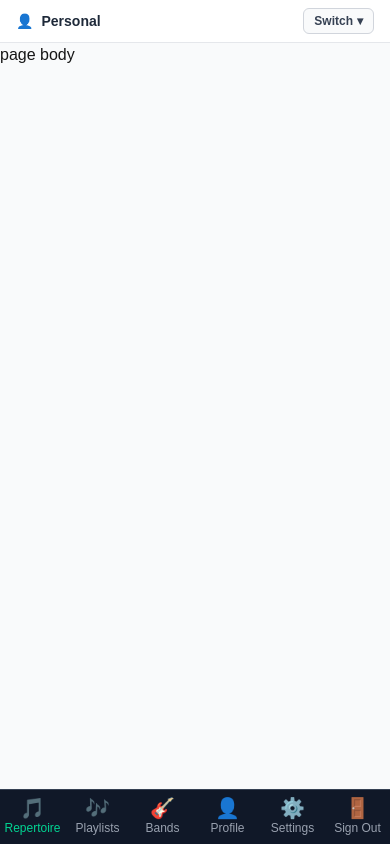
Scenario: AppLayout mobile context switch (RH-181) › opens the sheet from the personal bar and switches to a band
Click the button with test id "mobile-context-trigger".
click(339, 21)  # box top-left (303, 8), bottom-right (374, 34)
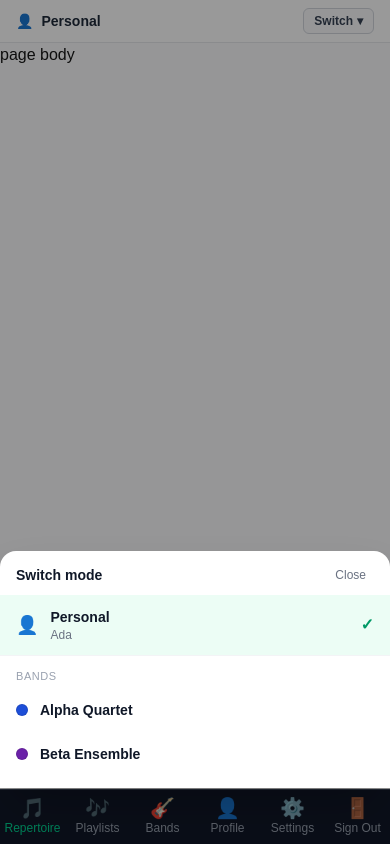
Click the button "Beta Ensemble".
click(90, 754)  # box top-left (0, 732), bottom-right (389, 776)
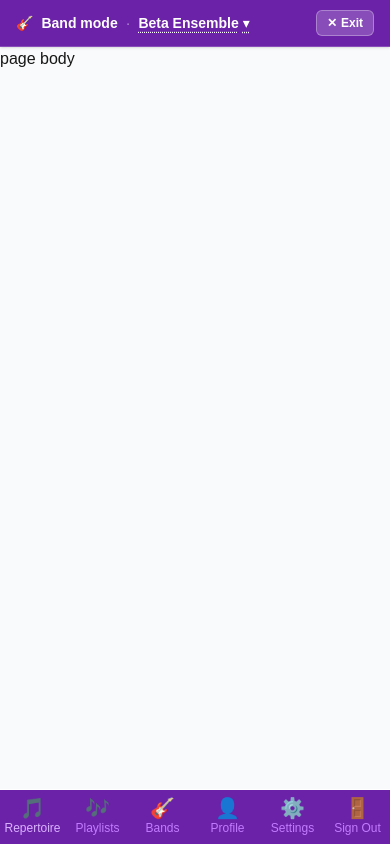
Result: the dialog with test id "mobile-context-sheet" is gone
Result: the element with test id "band-indicator" shows "Beta Ensemble" at top-left (138, 13), bottom-right (250, 33)
